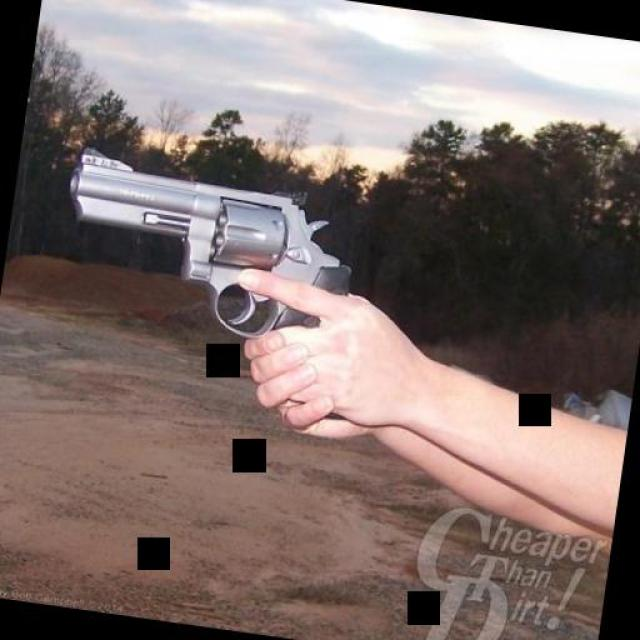gun: (27, 138, 385, 426)
